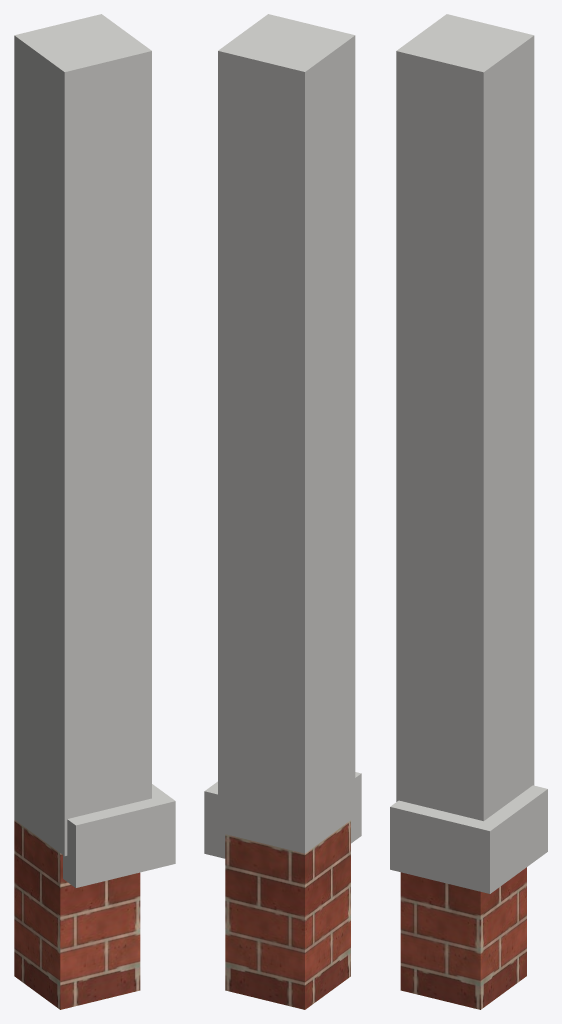
File: corner_siding.glb
The picture shows the model from 3 angles, left to right: view 1: azimuth 30°, elevation 25°; view 2: azimuth 150°, elevation 25°; view 3: azimuth 330°, elevation 25°; orthographic projection.
Visible parts, largest first — view 1: corner_siding_trim, corner_siding_brick; view 2: corner_siding_trim, corner_siding_brick; view 3: corner_siding_trim, corner_siding_brick.
Boxes of the visible parts, x1,y1,x2,y2 form: corner_siding_trim: (14,14,175,887); corner_siding_brick: (14,820,140,1009); corner_siding_trim: (204,14,361,858); corner_siding_brick: (225,820,350,1009); corner_siding_trim: (390,14,547,893); corner_siding_brick: (400,867,526,1009).
Bounding box in the file's own units: 0.41 × 3.6 × 0.41.
Materials: 2 (1 with a texture image).
